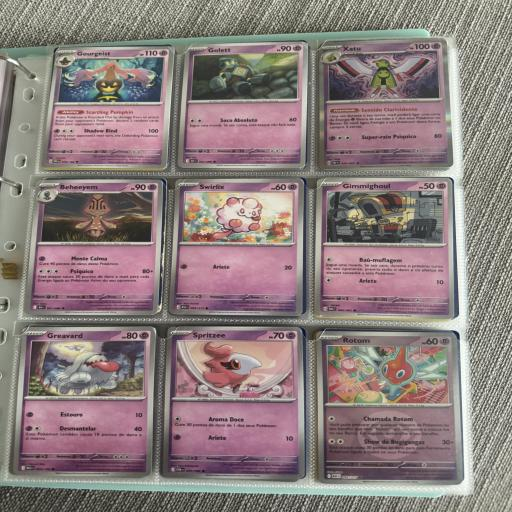card: (316, 328, 464, 487), (163, 325, 307, 480), (12, 325, 156, 476), (314, 174, 457, 319), (24, 179, 164, 315), (169, 177, 304, 316), (315, 38, 454, 171), (177, 40, 309, 169), (41, 45, 176, 169)
